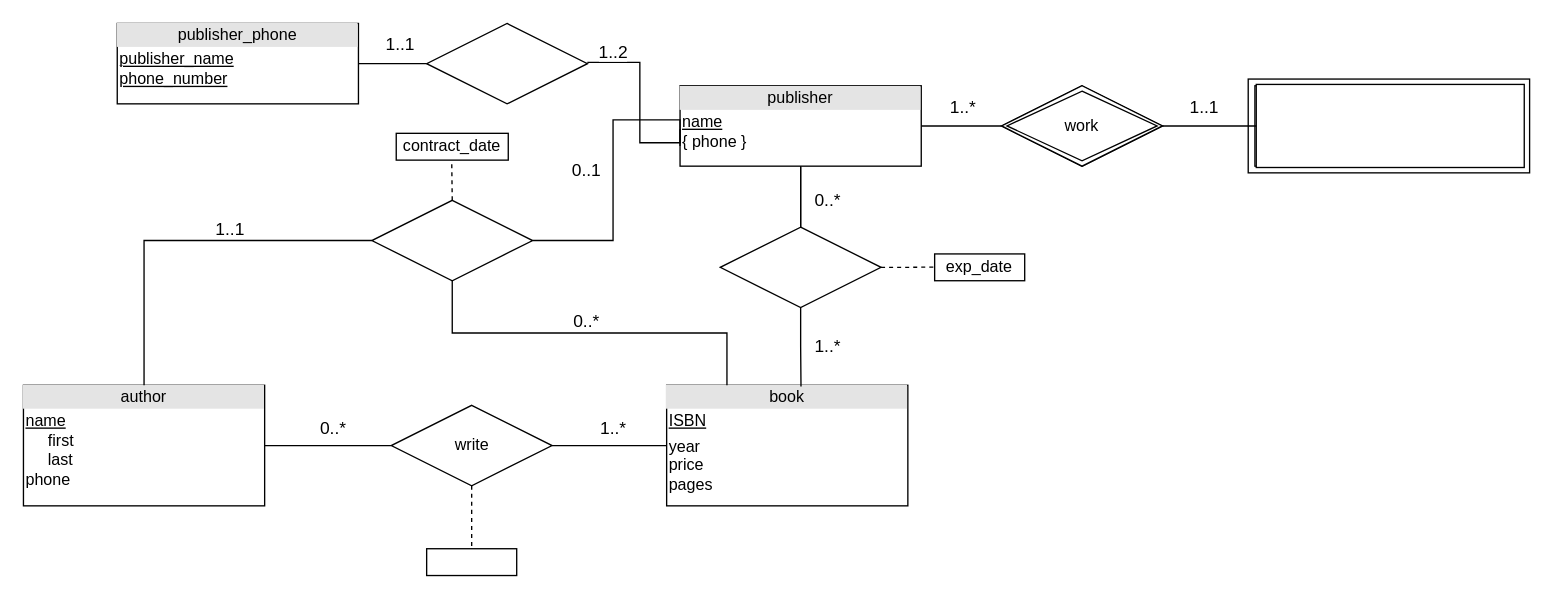
This 1553x599 diagram has some shape labels left out. Here are the shapes that lost their labels. From the top down, the box of each, then its label:
(425, 22, 587, 104): has
(1255, 83, 1524, 168): editor name phone
(371, 199, 533, 281): sign
(719, 226, 881, 308): review
(425, 547, 517, 576): role
